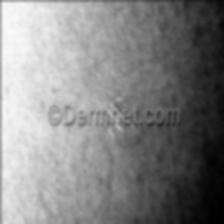Unclassified: (197, 134, 221, 156), (113, 92, 128, 108)
